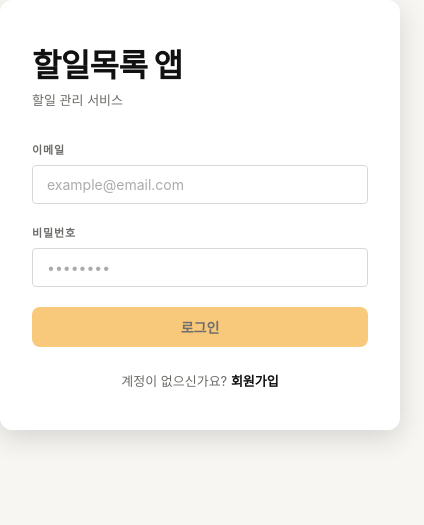
Test: LoginPage › 로그인 실패 시 에러 메시지 표시
Type "a@b.com" into the field labelled "이메일".
click(200, 184); type("a@b.com")  # box [32,165,368,204]
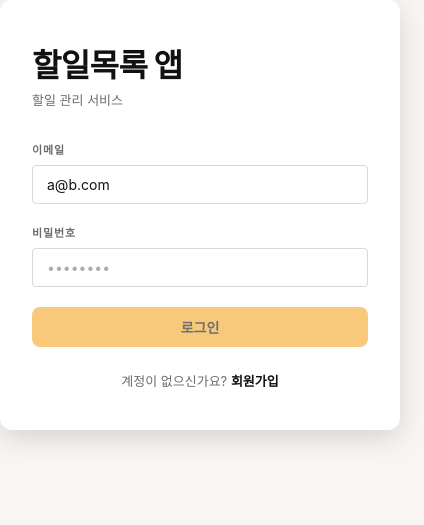
Type "wrong123" into the password field labelled "비밀번호".
click(200, 268); type("wrong123")  # box [32,248,368,287]
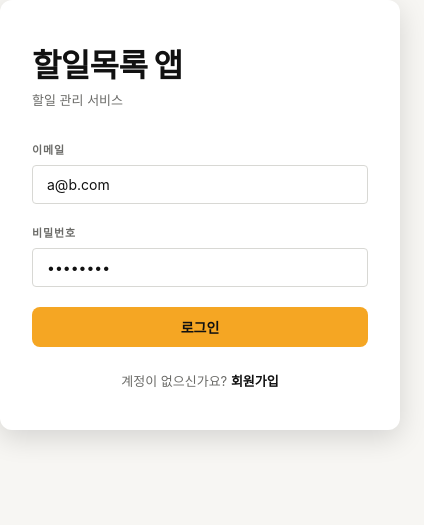
Submit the form "로그인", box [32,141,368,347]
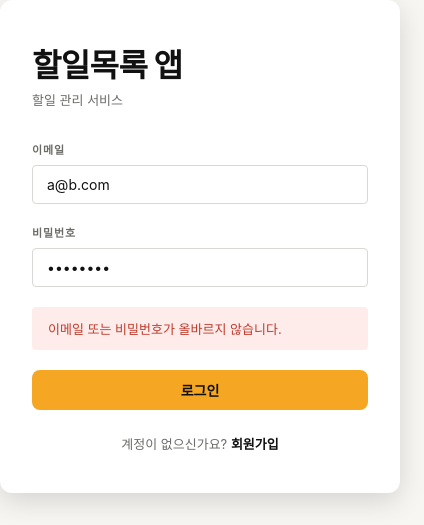
Result: the text "이메일 또는 비밀번호가 올바르지 않습니다." is shown at [32,307,368,350]
